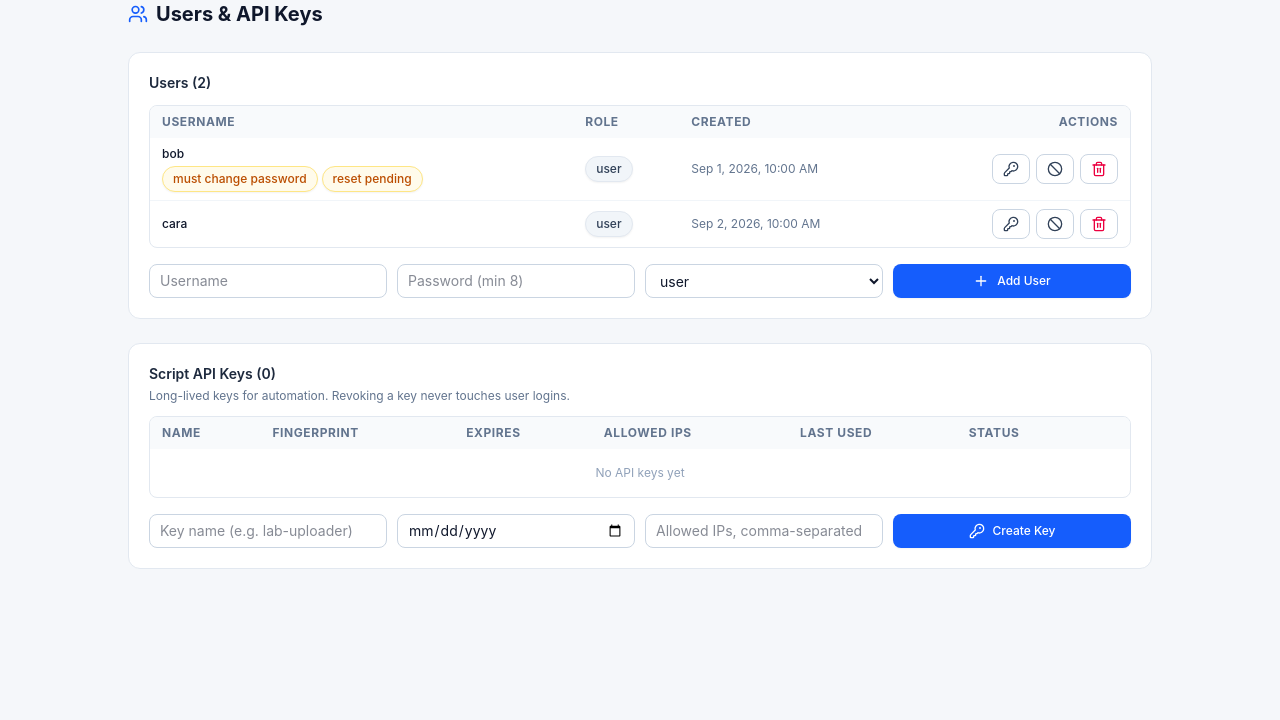
Test: Users password reset › sets an auto-generated temp password and shows it once
Expected: the text "bob" is shown, [162,146,184,161]
Click the button titled "Reset password / issue link" in the row of "bob" at (1011, 169), box [992,154,1030,184]
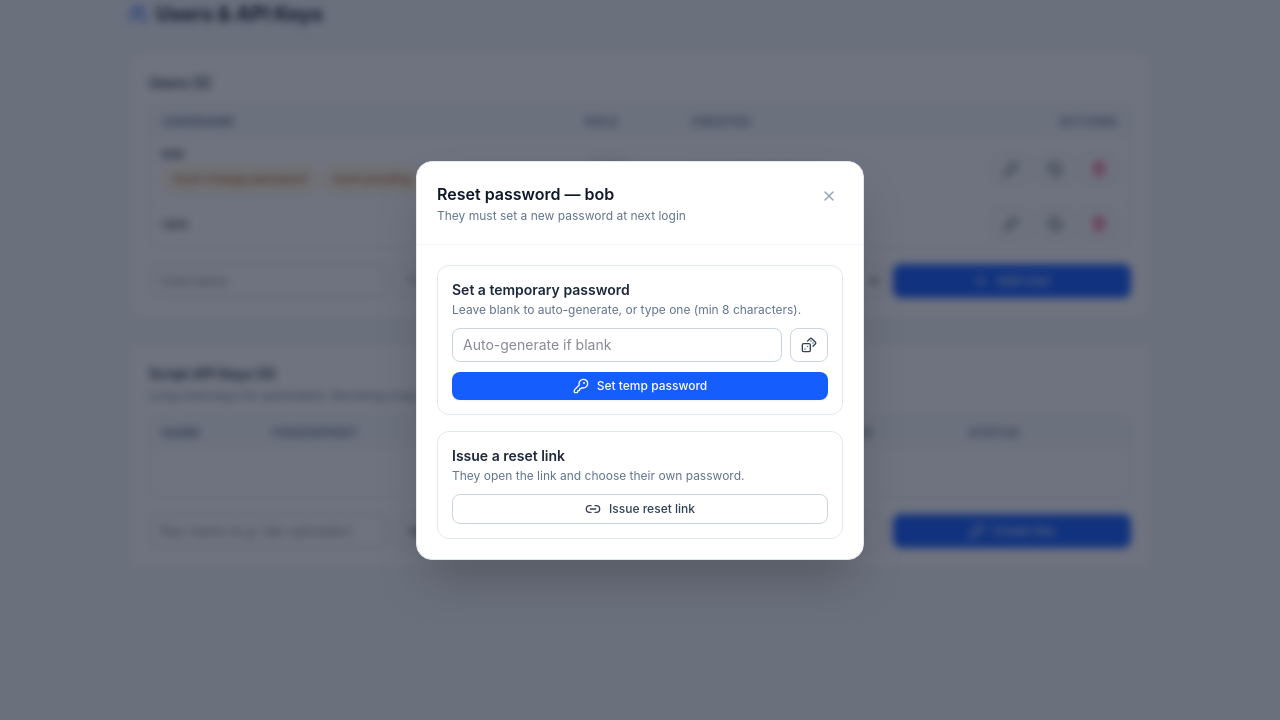
Result: the heading "Reset password — bob" is shown at [437,184,614,204]
Click the button "Set temp password" at (640, 386), box [452,372,828,400]
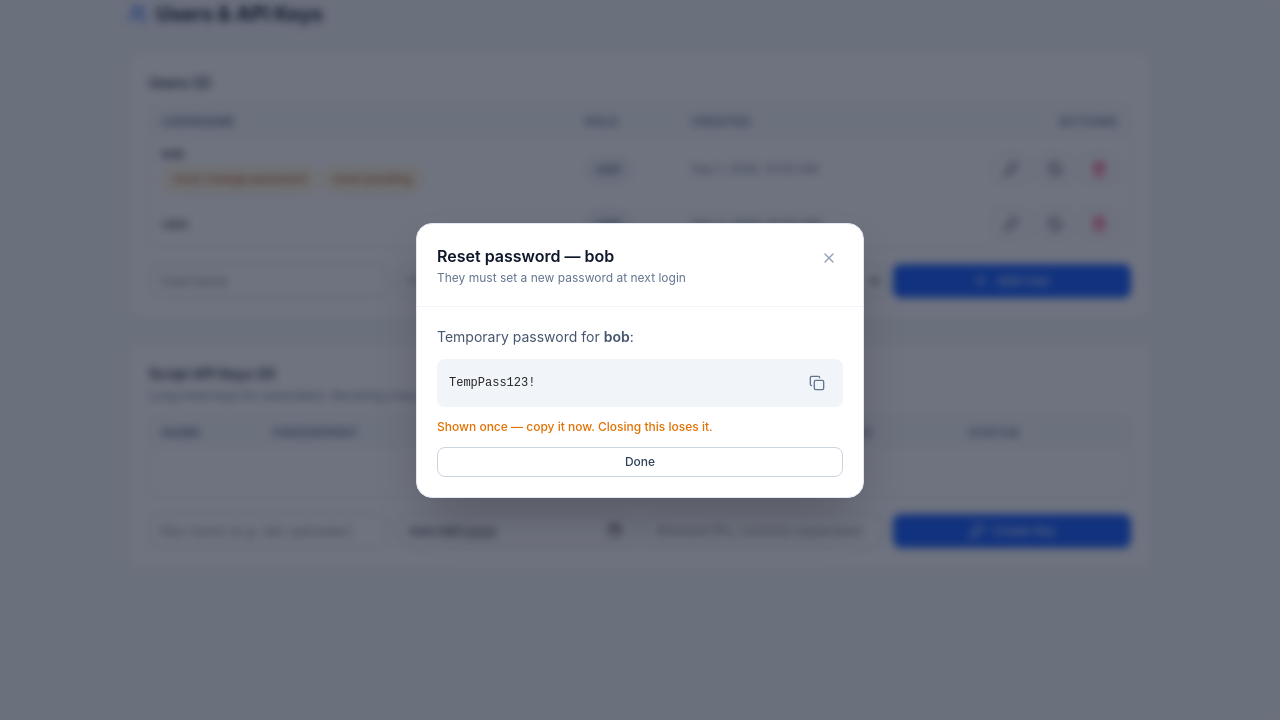
Result: the text "TempPass123!" is shown at [449,376,535,390]
Result: the text "Shown once — copy it now. Closing this loses it." is shown at [437,418,713,434]
